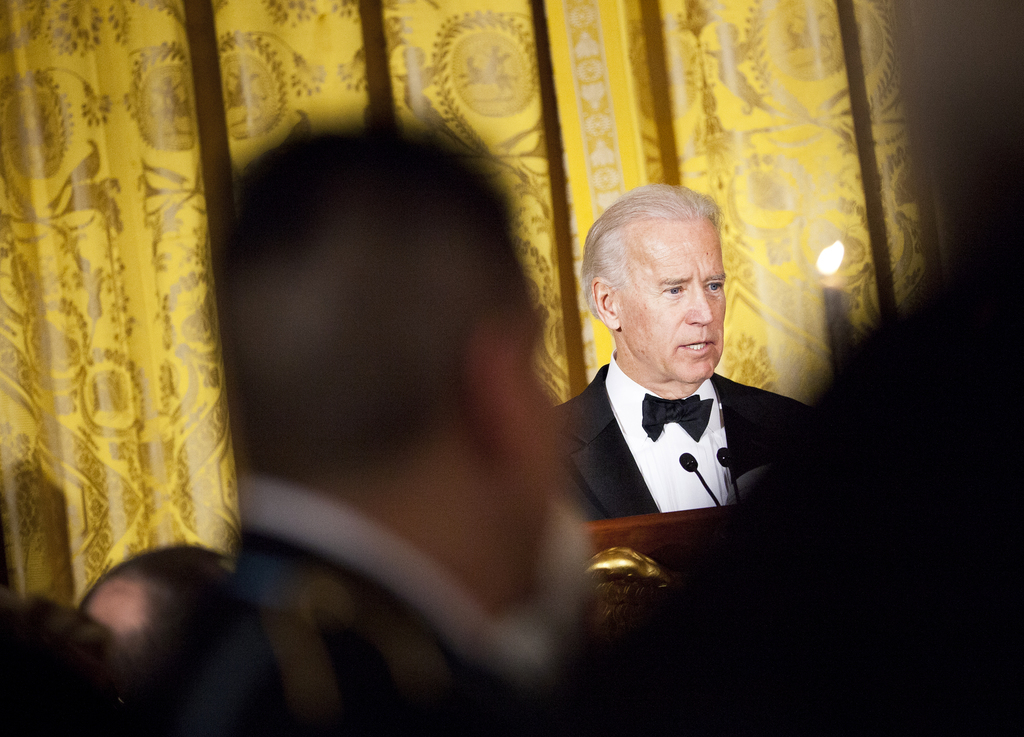Person: (114, 116, 597, 737)
